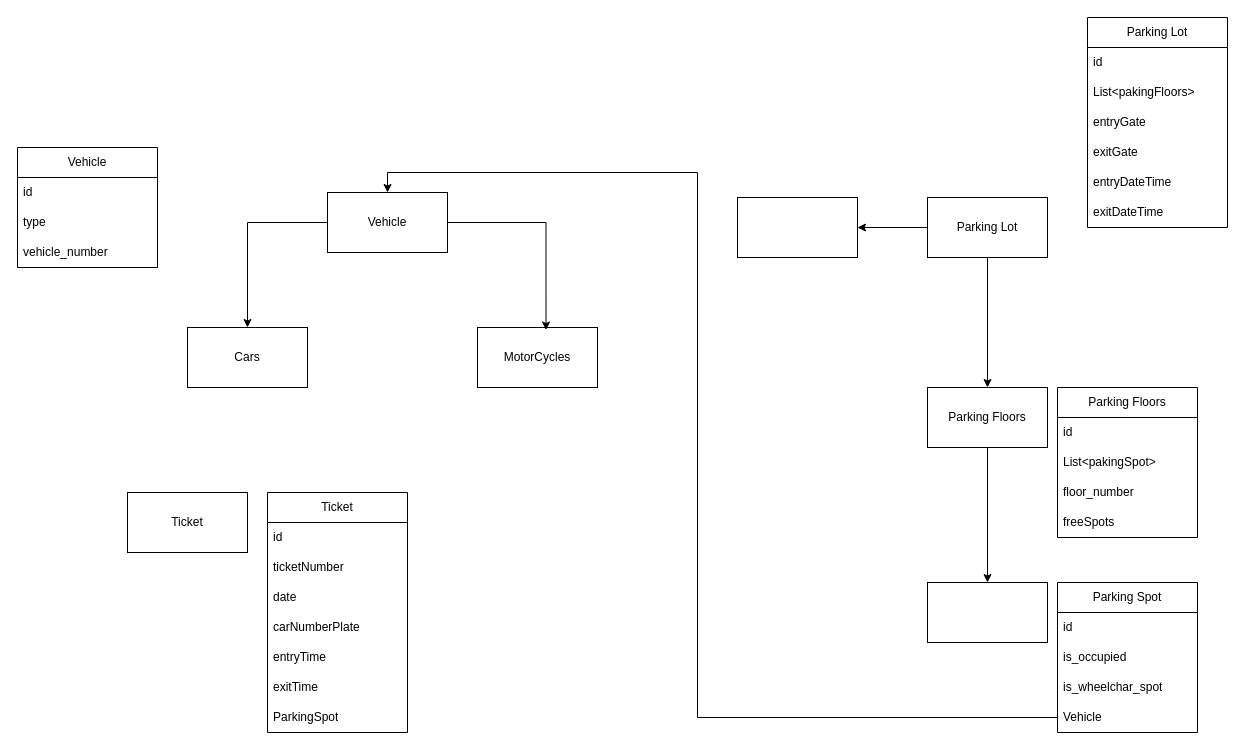
Image size: 1245x750. Some labels were removed from this diagram. Each missing label, with the centre of its shape:
Parking Spots: point (987, 612)
PaymentManager: point (797, 227)
